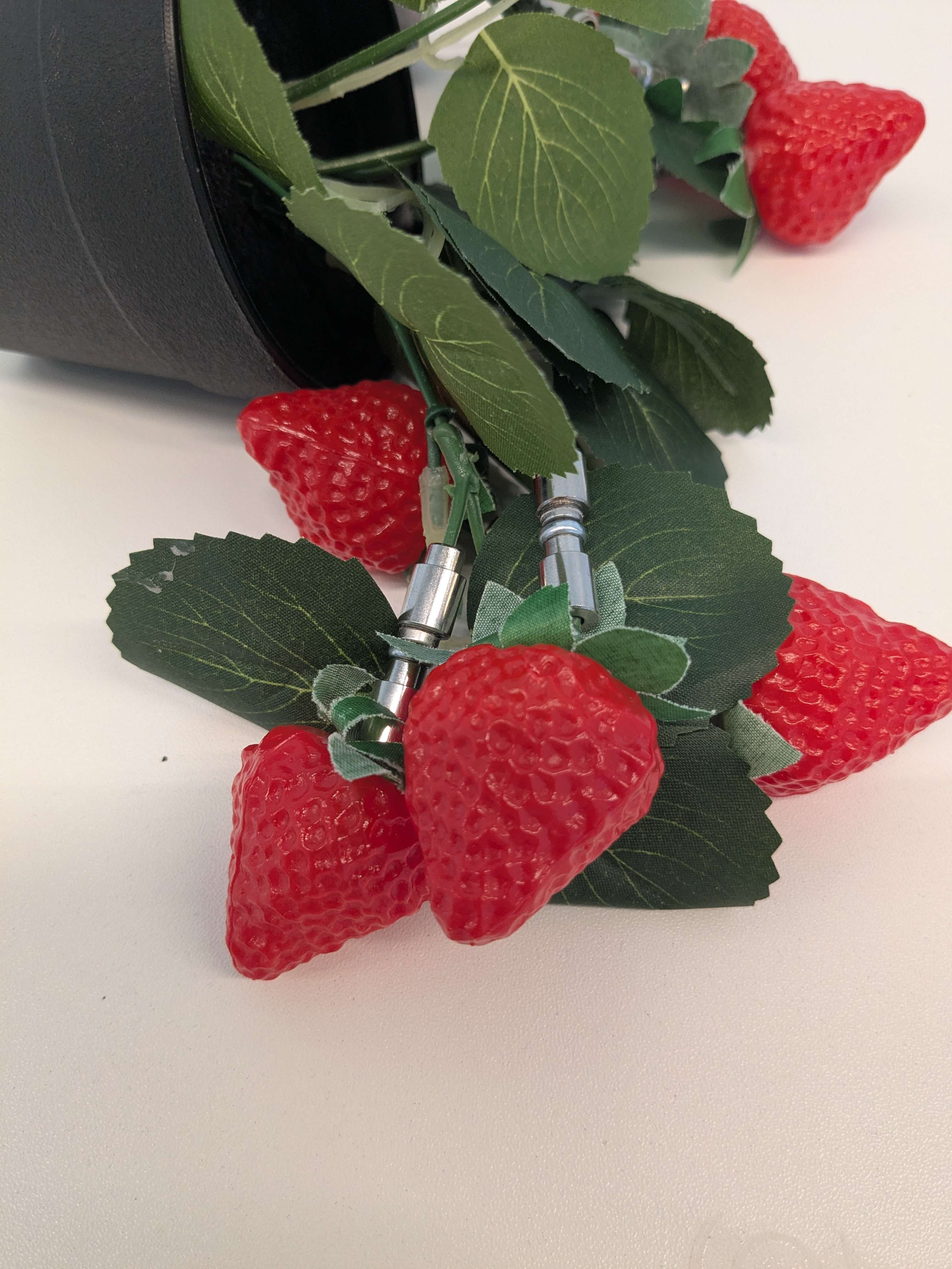Strawberry: (399, 636, 653, 964), (193, 693, 447, 1001), (705, 561, 952, 815), (720, 55, 949, 281), (223, 375, 452, 584)
